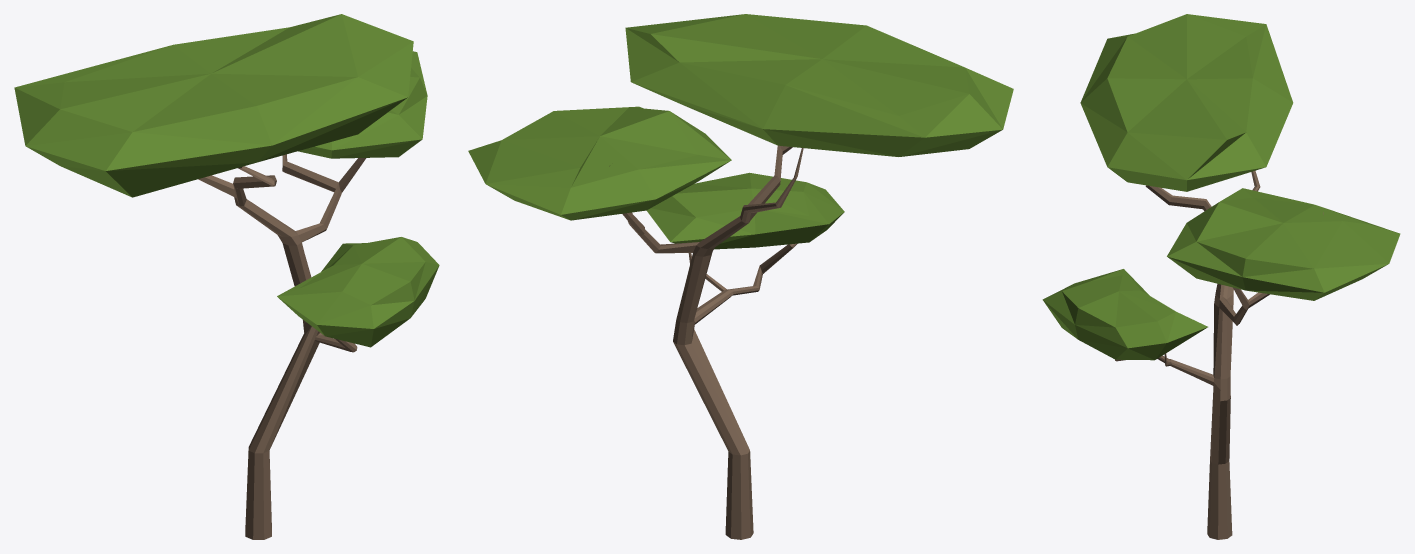
The model's file is Tree_7.fbx.
3 renders of one model, left to right at view 1: azimuth 30°, elevation 25°; view 2: azimuth 150°, elevation 25°; view 3: azimuth 270°, elevation 25°, orthographic. The views are drawn at different scales.
Visible parts, largest first — view 1: Tree_7; view 2: Tree_7; view 3: Tree_7.
Part boxes in pixels (bbox=[...]): Tree_7: bbox=[14, 14, 439, 539]; Tree_7: bbox=[468, 14, 1013, 539]; Tree_7: bbox=[1042, 14, 1400, 539].
Bounding box in the file's own units: 401 × 303 × 404.
